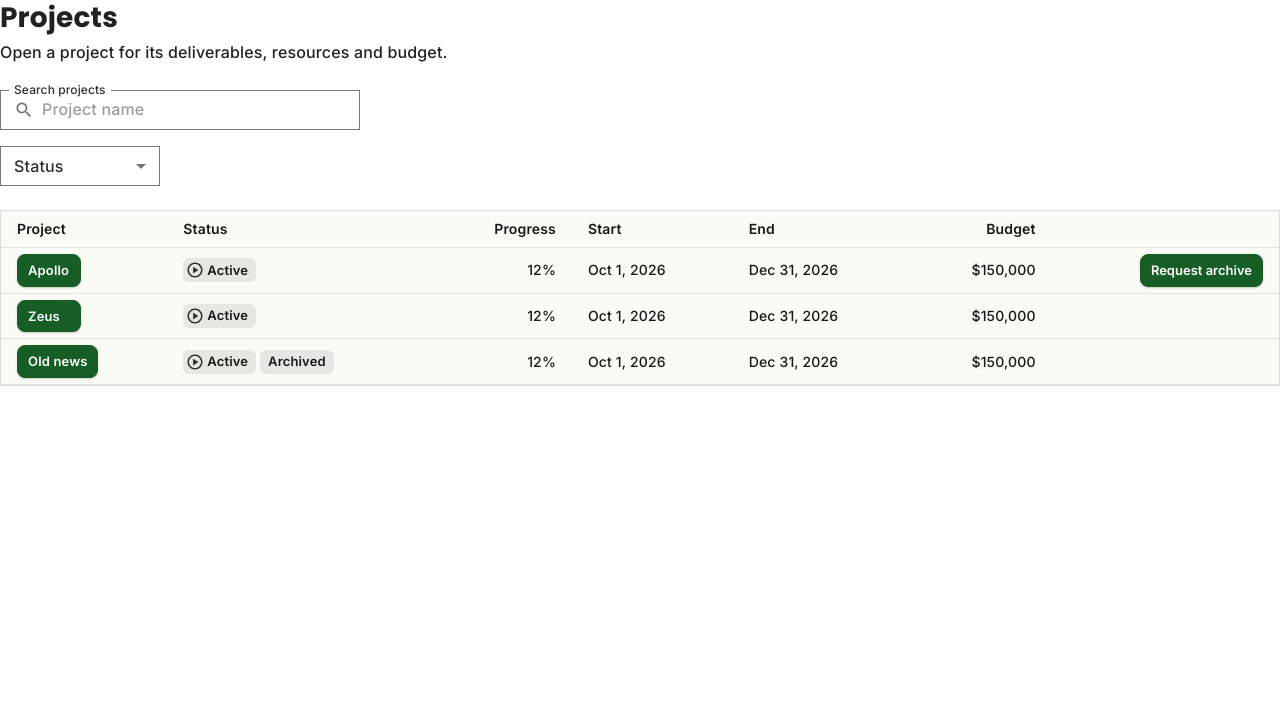
Test: ProjectsPage › archiving from the list › sends the existing archive-kind request, with the reason typed
expect the link "Apollo" is shown: met, box [17, 254, 81, 287]
Click the button with aria-label "Request archive for Apollo" at x=1201, y=270, box [1140, 254, 1263, 287]
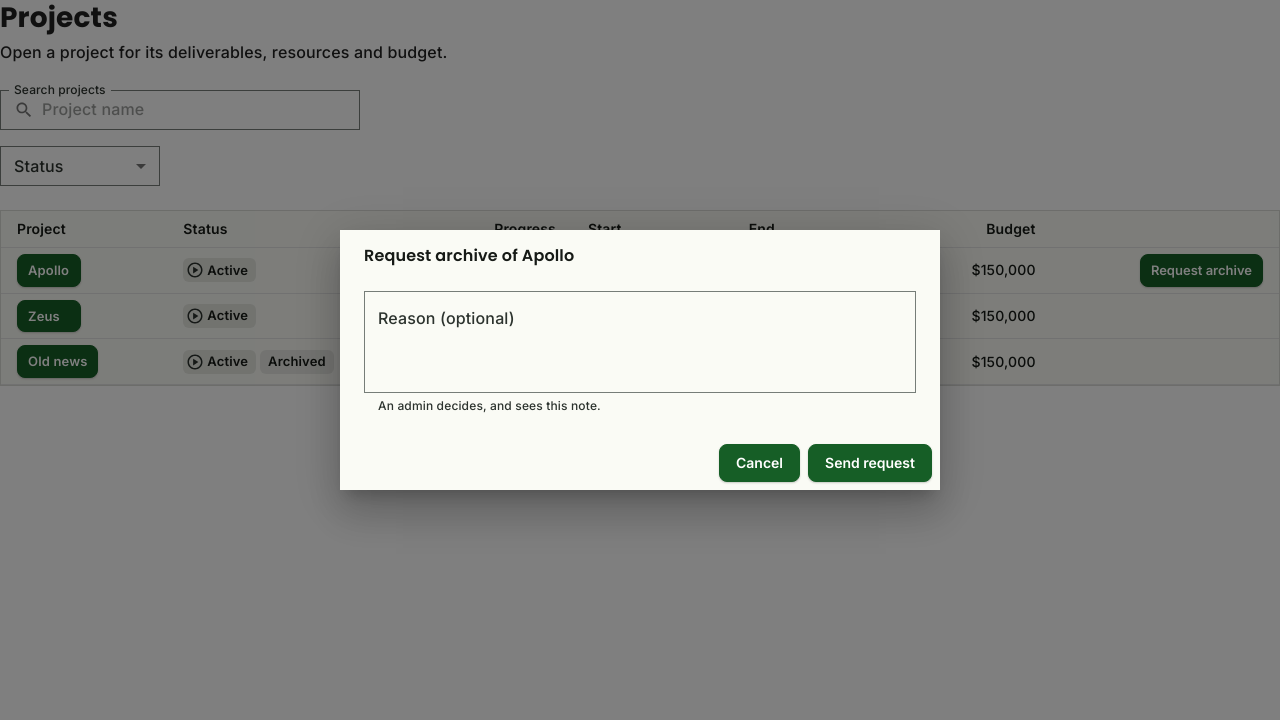
Type "Finished and handed over" into the text box labelled "Reason (optional)" at x=640, y=342, box [378, 307, 902, 376]
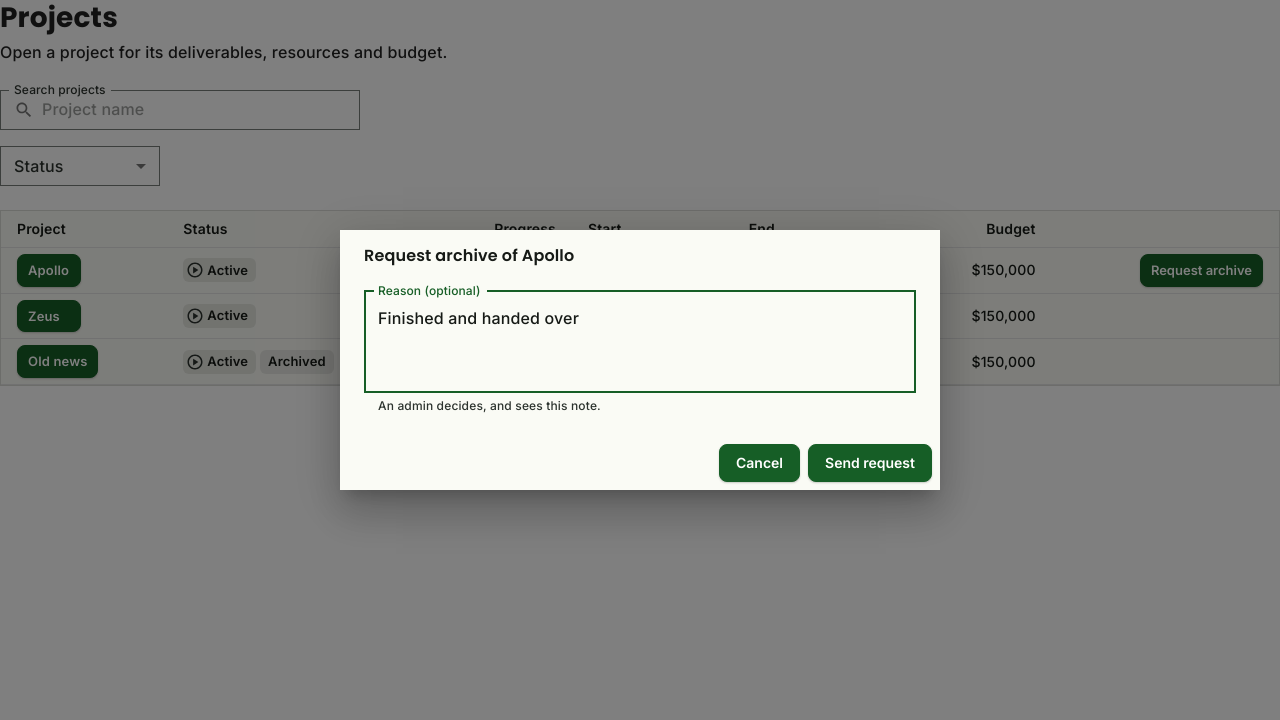
Click the button "Send request" at x=870, y=463, box [808, 444, 932, 482]
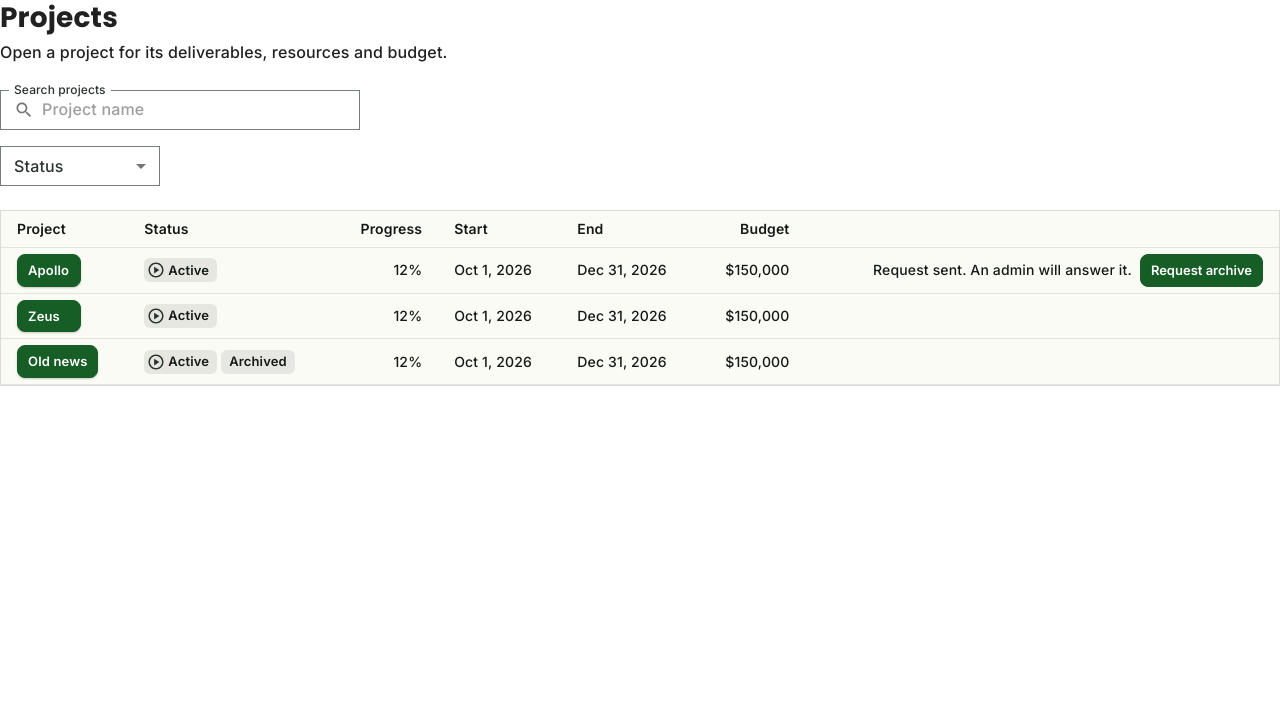
expect the text "Request sent. An admin will answer it." is shown: met, box [873, 259, 1132, 282]
